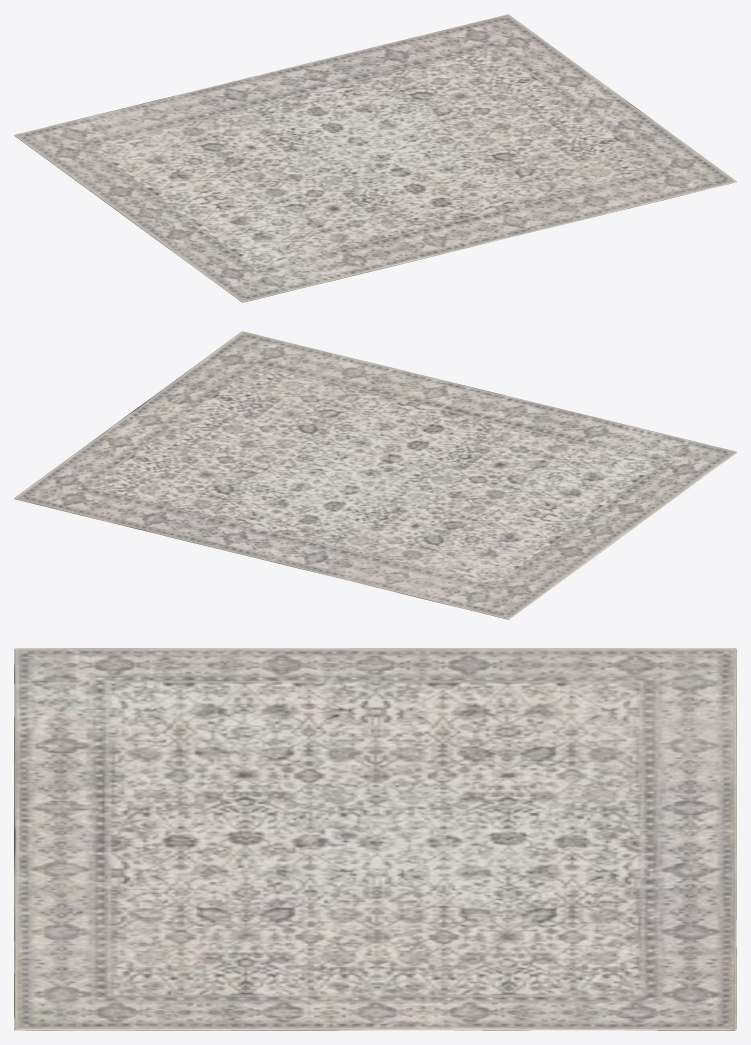
File: LB-LR-RUG-01.glb
The picture shows the model from 3 angles, top to bottom: view 1: azimuth 30°, elevation 25°; view 2: azimuth 150°, elevation 25°; view 3: azimuth 270°, elevation 25°; orthographic projection. The views are drawn at different scales.
Parts seen in each view (by area): view 1: ASY_ART_20623408_S01_NV01; view 2: ASY_ART_20623408_S01_NV01; view 3: ASY_ART_20623408_S01_NV01.
Part boxes in pixels (box(x1,y1,x2,y2)): ASY_ART_20623408_S01_NV01: box(14, 14, 736, 302); ASY_ART_20623408_S01_NV01: box(14, 331, 736, 619); ASY_ART_20623408_S01_NV01: box(14, 648, 736, 1030).
Bounding box in the file's own units: 3.05 × 0.00596 × 2.44.
1 material, 1 textured.
